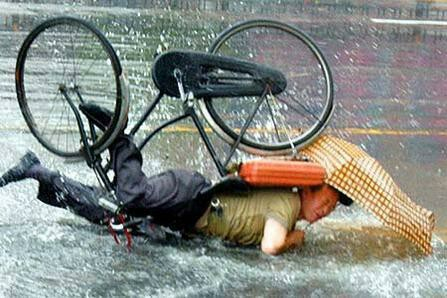fall: (7, 101, 351, 262)
